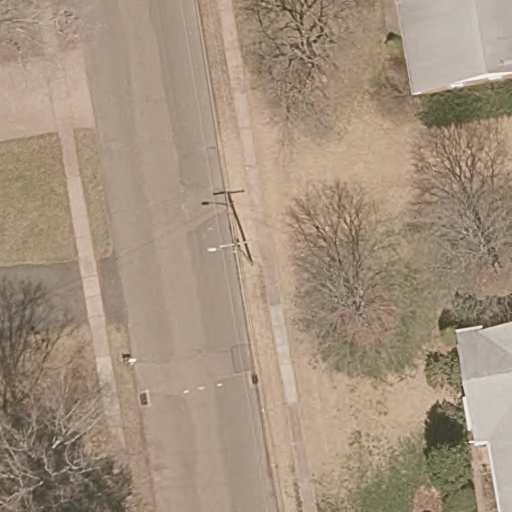DT: (207, 237, 252, 256)
